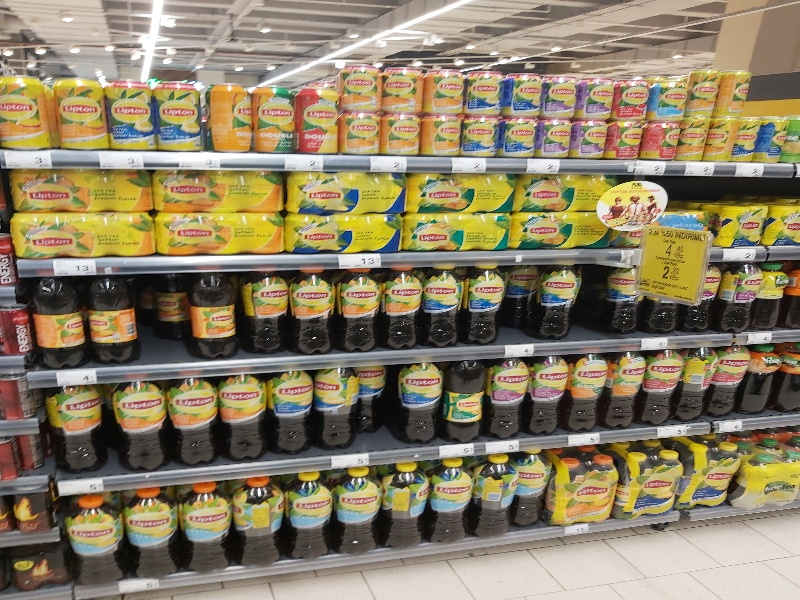urun: (9, 208, 158, 262), (149, 166, 286, 217), (153, 209, 290, 260), (276, 166, 413, 217), (8, 172, 157, 213), (161, 375, 222, 473), (403, 168, 523, 217), (396, 212, 516, 261), (512, 173, 632, 222), (505, 207, 625, 256), (64, 492, 124, 586), (122, 486, 182, 580), (45, 387, 108, 476), (106, 379, 169, 468), (32, 274, 87, 370), (80, 273, 135, 369), (280, 212, 408, 253), (547, 454, 618, 526), (614, 447, 685, 519), (213, 371, 264, 467), (268, 365, 319, 461), (312, 364, 363, 460), (46, 70, 105, 152), (180, 480, 232, 571), (231, 475, 283, 566), (280, 472, 332, 563), (330, 462, 382, 553), (376, 462, 428, 553), (423, 456, 475, 547), (185, 270, 237, 359), (236, 269, 288, 358), (283, 269, 335, 358), (331, 269, 383, 358), (679, 438, 739, 514), (392, 357, 442, 445), (737, 450, 800, 514), (442, 357, 485, 449), (484, 352, 527, 444), (526, 350, 569, 442), (568, 346, 611, 438), (154, 73, 205, 149), (205, 76, 256, 152), (377, 263, 420, 352), (420, 263, 463, 352), (462, 263, 505, 352), (1, 73, 49, 152), (106, 73, 154, 151), (472, 454, 516, 538), (510, 449, 554, 533), (253, 76, 296, 153), (296, 79, 339, 156), (538, 263, 577, 346), (606, 348, 643, 433), (712, 200, 774, 245), (711, 345, 746, 421), (745, 338, 780, 414), (720, 265, 757, 336), (646, 346, 678, 423), (681, 345, 713, 422), (339, 52, 380, 112), (607, 270, 641, 340), (754, 261, 785, 335), (342, 103, 383, 156), (382, 57, 423, 110), (691, 266, 720, 336), (426, 63, 465, 115), (464, 61, 507, 108), (462, 110, 504, 155), (505, 71, 547, 116), (381, 110, 424, 153), (423, 116, 466, 157), (502, 116, 539, 163), (541, 66, 578, 113), (537, 114, 574, 161), (577, 71, 614, 118), (572, 118, 609, 165), (614, 70, 651, 117), (607, 117, 644, 164), (650, 73, 687, 120), (638, 119, 675, 166), (685, 68, 722, 115), (715, 67, 752, 114), (761, 114, 787, 169), (680, 115, 709, 163), (705, 119, 734, 165), (732, 117, 761, 163)
